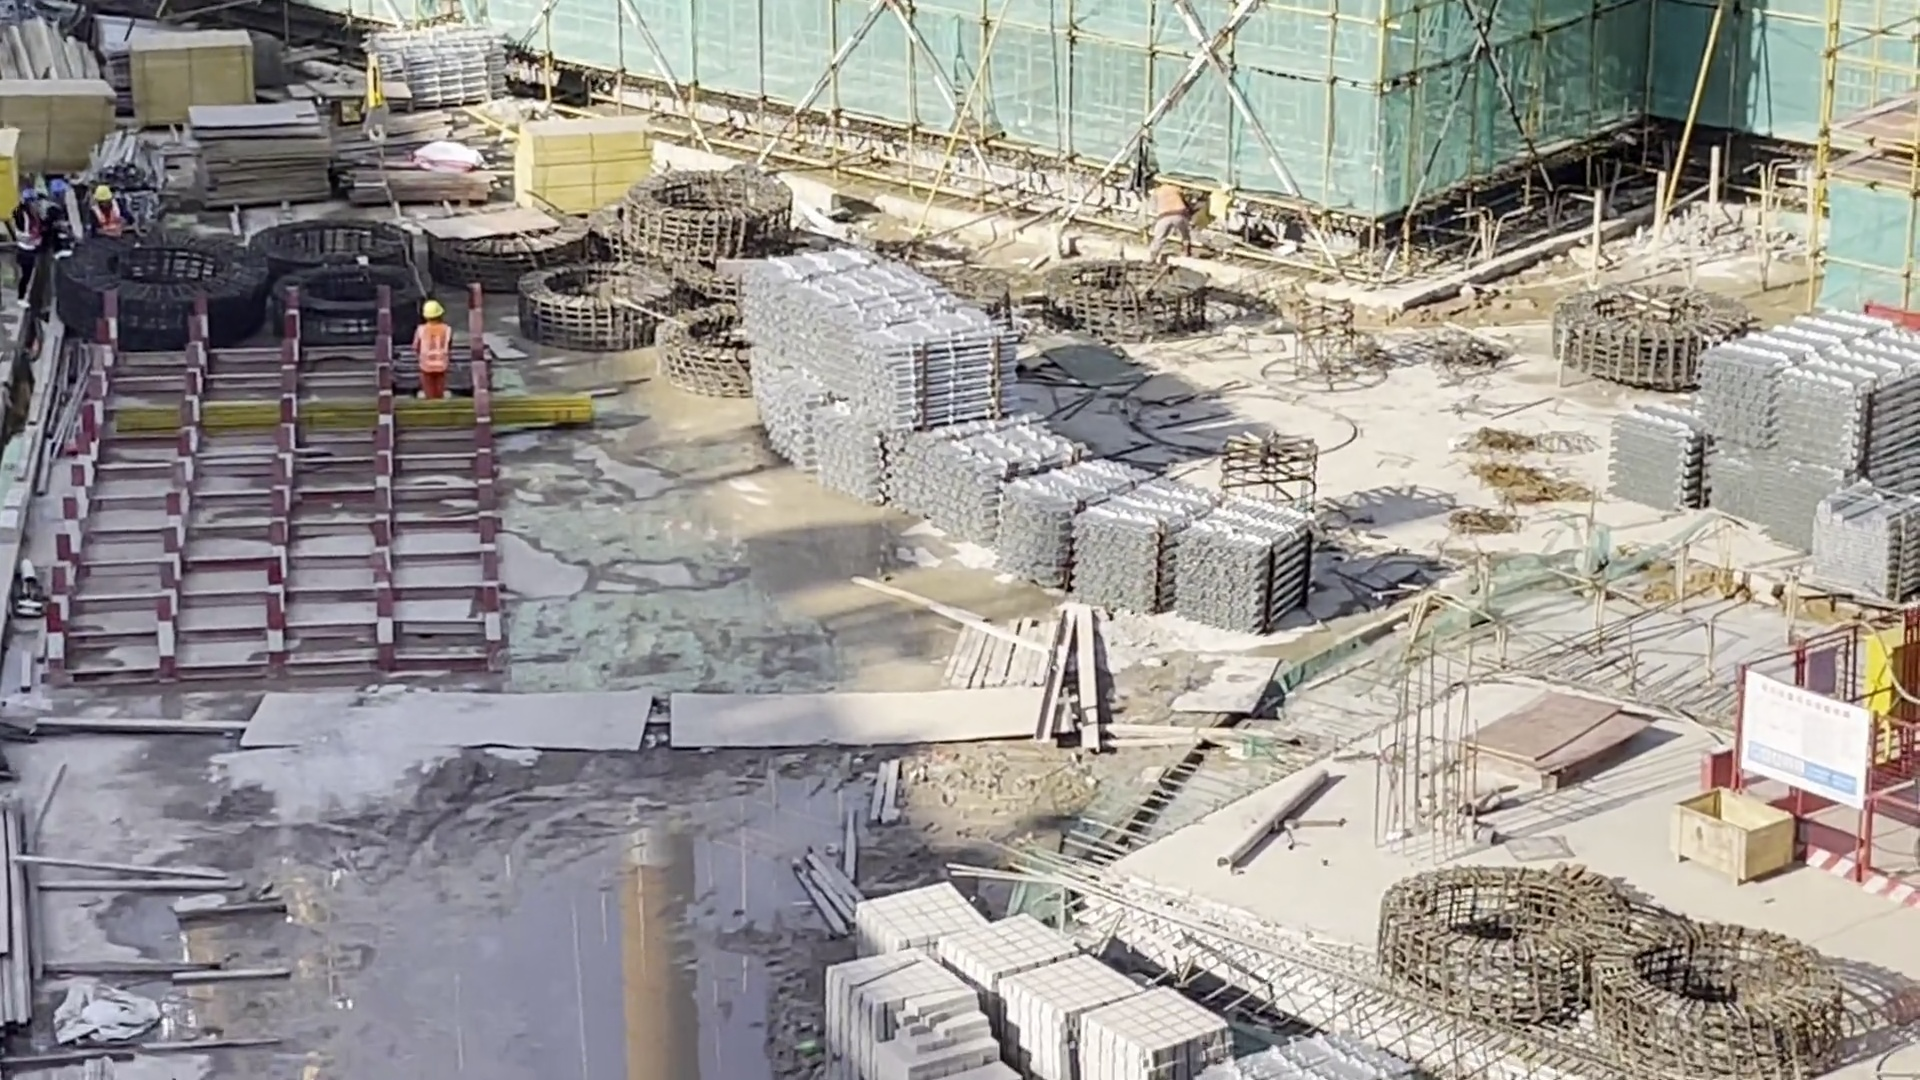board: (179, 99, 339, 207), (517, 118, 661, 212), (1479, 697, 1643, 779), (127, 30, 248, 133), (1, 80, 115, 160)
brick: (823, 895, 1215, 1080)
ebox: (1867, 630, 1920, 721), (1, 126, 24, 226)
helmet: (423, 299, 444, 318), (93, 184, 113, 202)
person: (1140, 180, 1190, 261), (414, 299, 448, 401), (92, 185, 120, 240)
scaffold: (746, 257, 1017, 493), (1708, 319, 1920, 536), (1071, 484, 1320, 622), (921, 427, 1148, 576), (1815, 481, 1920, 607), (1613, 387, 1708, 508), (374, 26, 504, 108), (1206, 1045, 1419, 1080)
vest: (416, 318, 447, 373), (1146, 181, 1189, 214)
